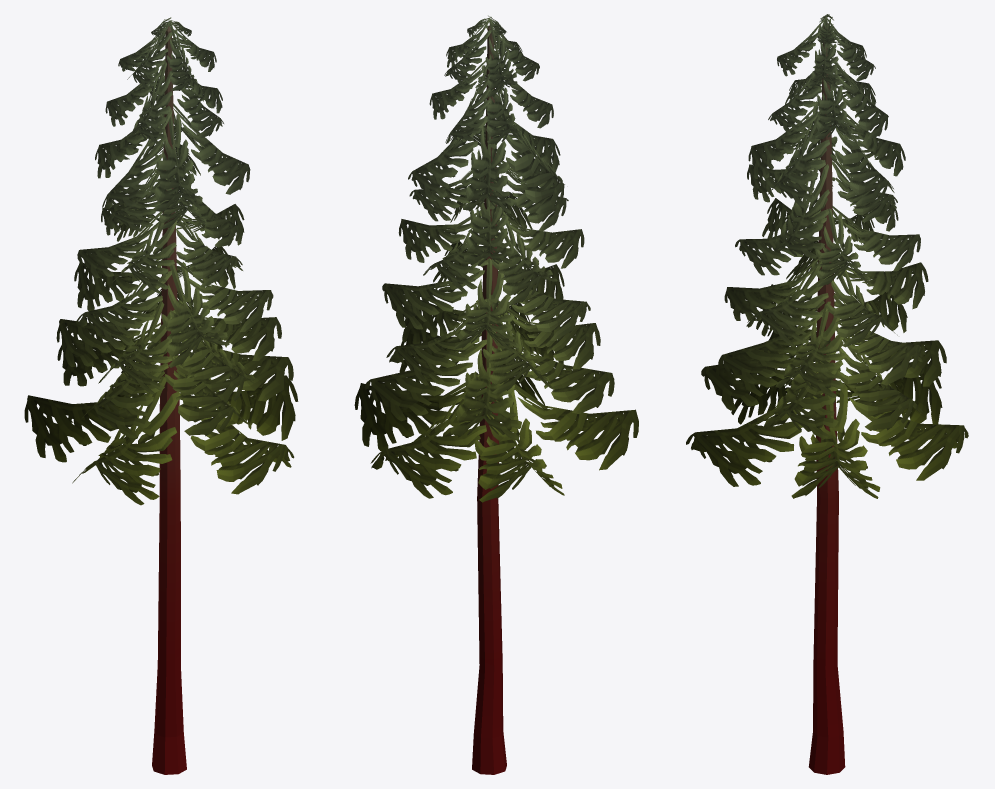
3 renders of one model, left to right at view 1: azimuth 30°, elevation 25°; view 2: azimuth 150°, elevation 25°; view 3: azimuth 270°, elevation 25°, orthographic.
Visible parts, largest first — view 1: SM_Tree_Pine_Large_02; view 2: SM_Tree_Pine_Large_02; view 3: SM_Tree_Pine_Large_02.
Boxes of the visible parts, box(x1,y1,x2,y2) form: SM_Tree_Pine_Large_02: box(24, 17, 298, 774); SM_Tree_Pine_Large_02: box(354, 15, 638, 774); SM_Tree_Pine_Large_02: box(686, 14, 968, 774).
Bounding box in the file's own units: 3.14 × 8.59 × 3.17.
2 materials, 2 textured.
